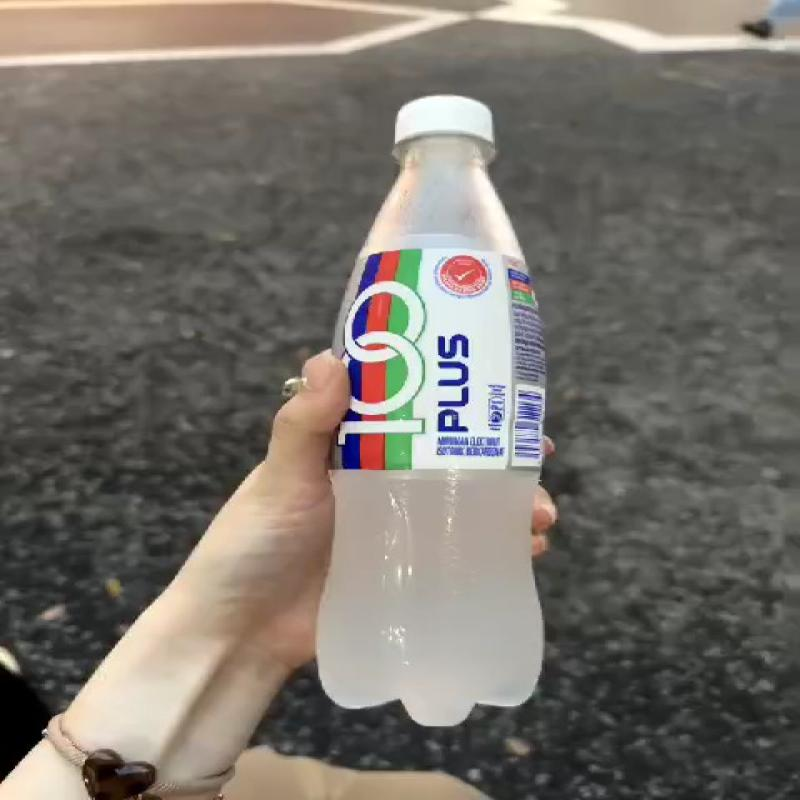botella: (303, 93, 549, 721)
